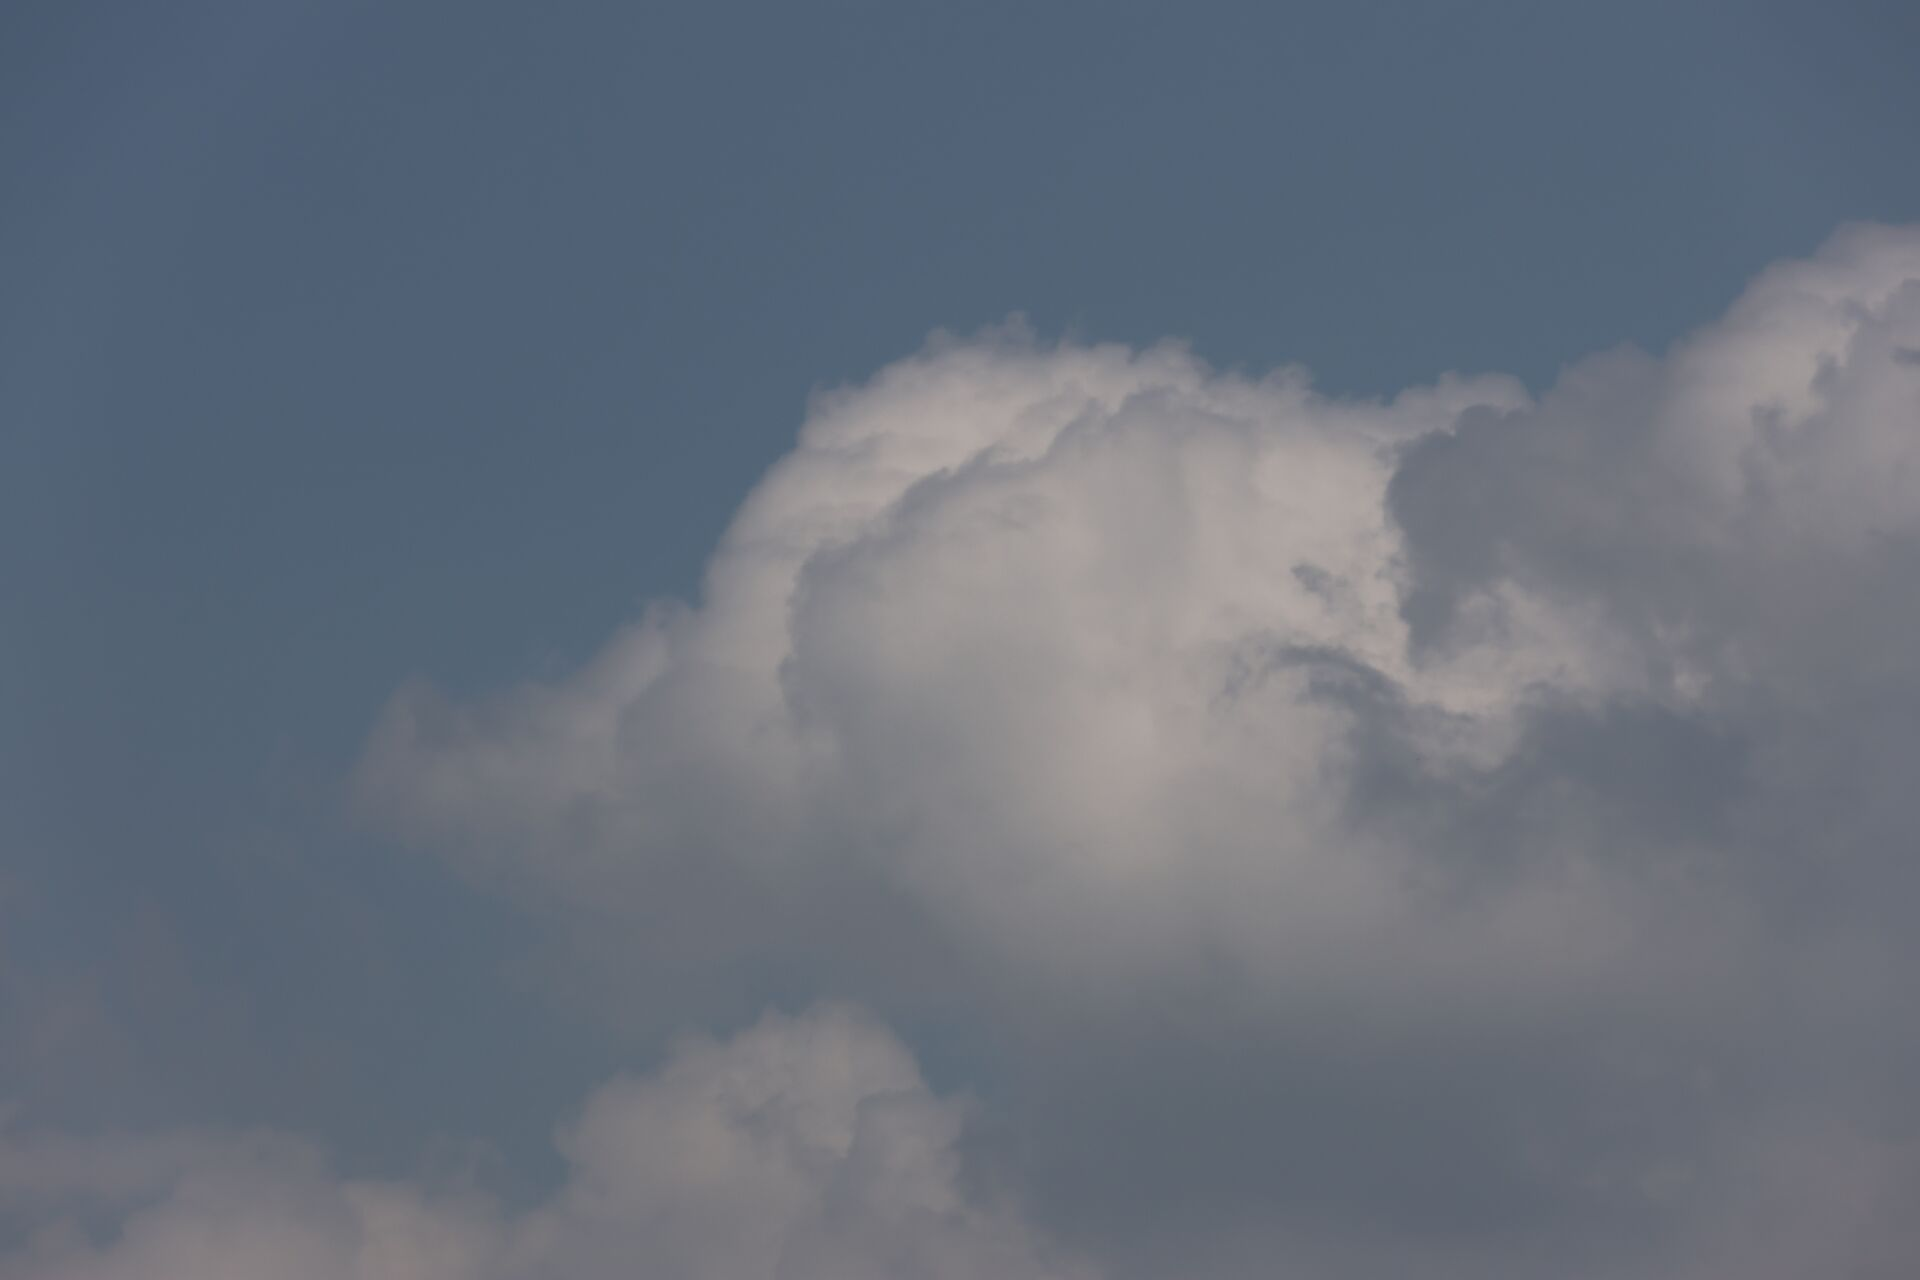Cumulus: (409, 230, 1919, 1037), (70, 1006, 1050, 1280)
